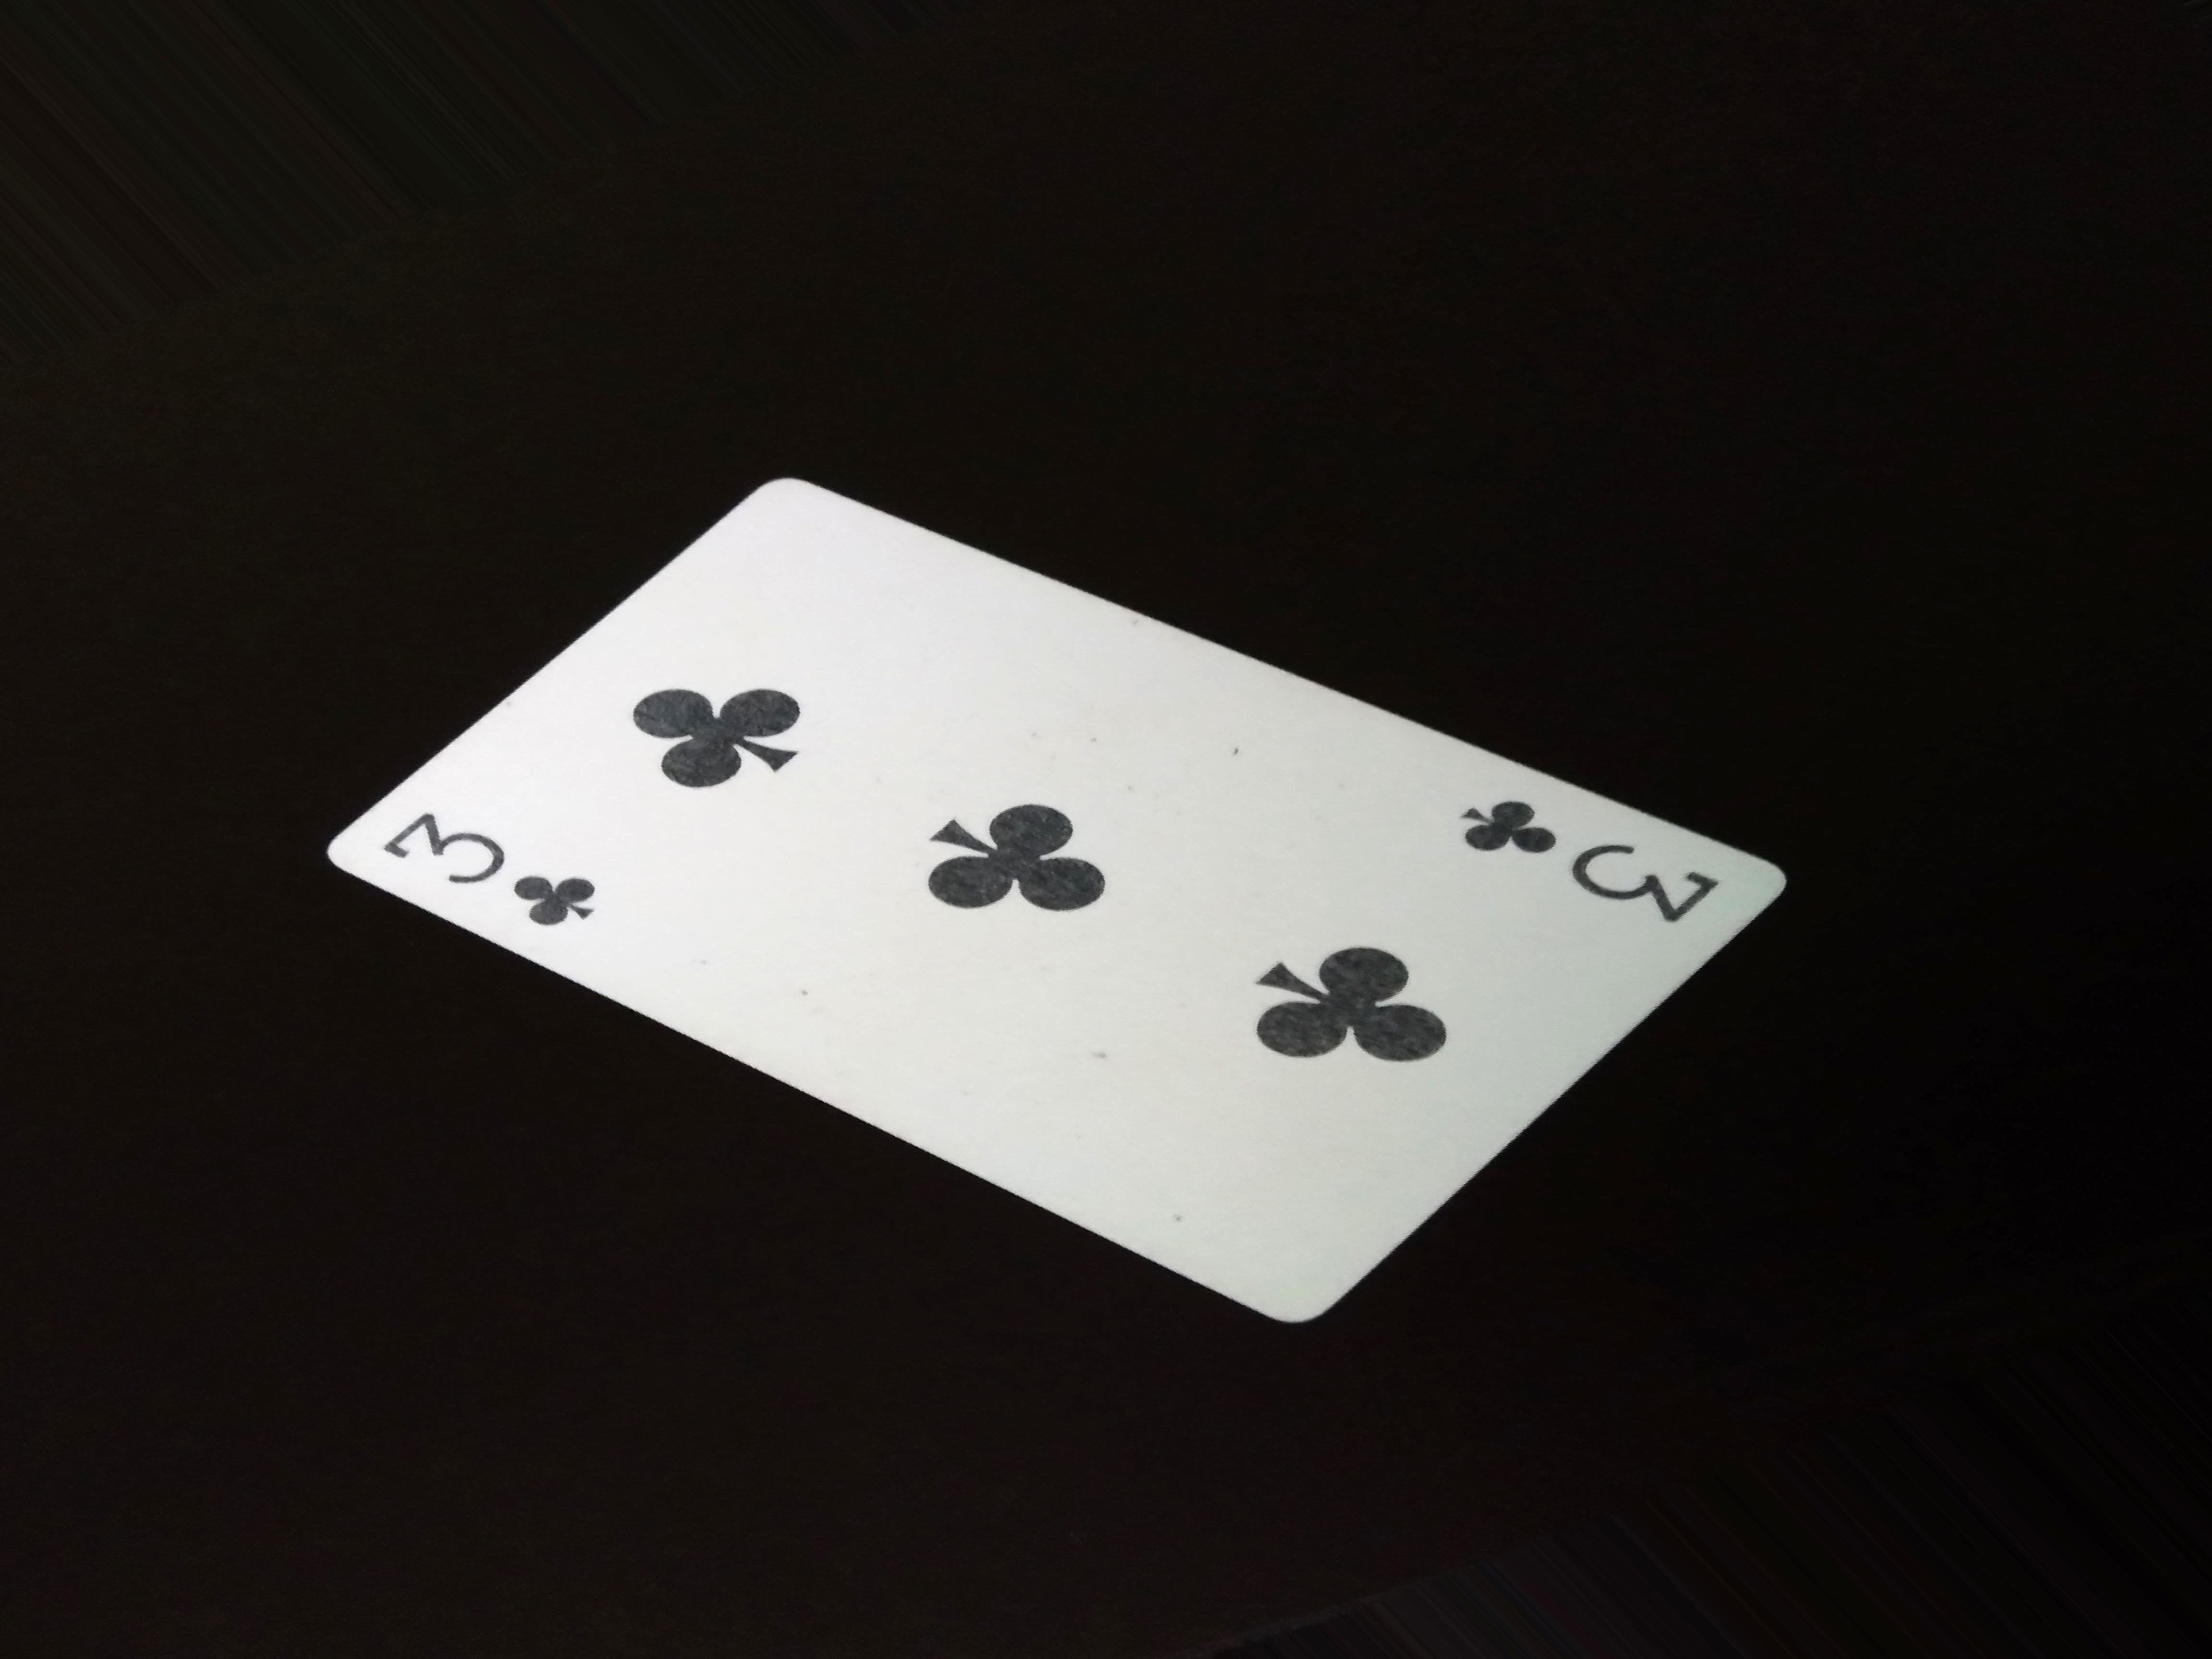3C: (1439, 769, 1763, 941)
